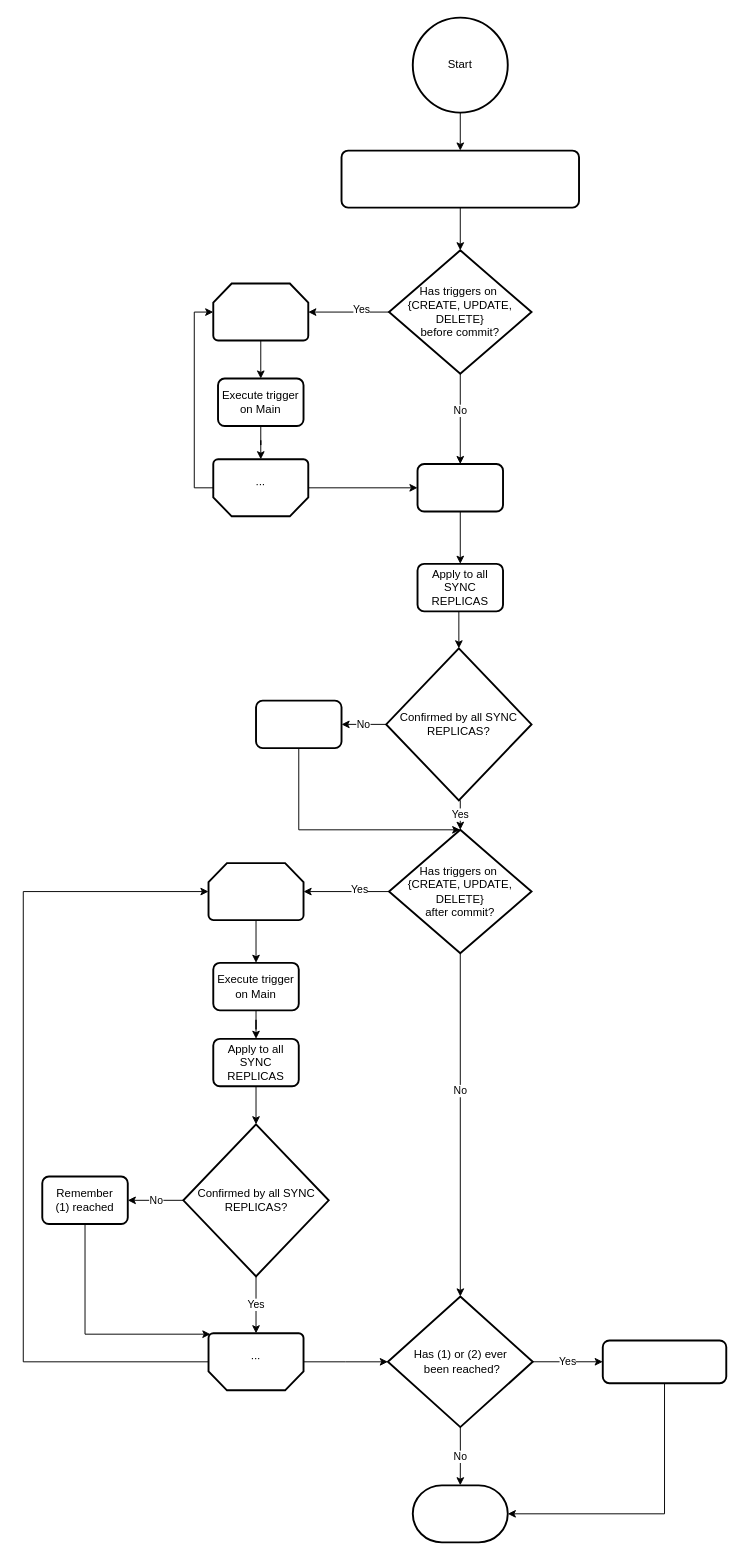
The diagram is 744 pixels wide and 1559 high, and some of its shapes have lost their labels. Here are the shapes that lost their labels. From the top down, the centre of each, then its label:
At (x=460, y=178): "CREATE or UPDATE or DELETE".
At (x=260, y=311): "For all triggers before commit".
At (x=460, y=487): "Apply changes on Main".
At (x=298, y=724): "Remember (0) reached".
At (x=255, y=891): "For all triggers after commit".
At (x=664, y=1361): "DB Exception (ReplicationException)".
At (x=459, y=1513): "End".
